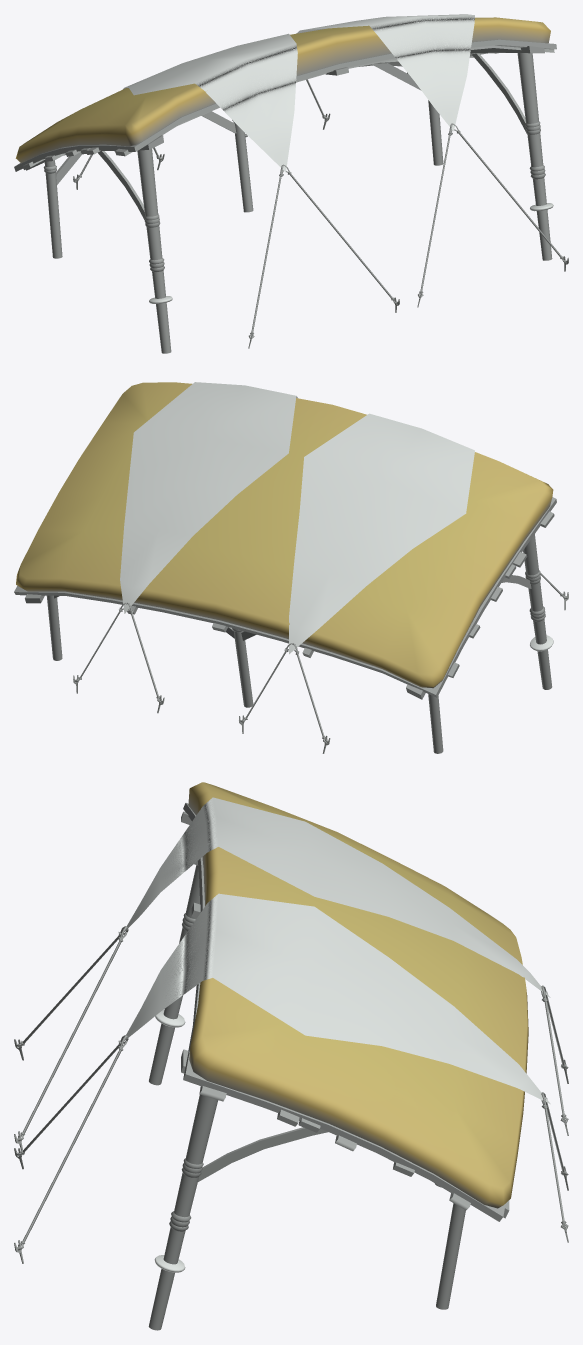
The picture shows the model from 3 angles, top to bottom: view 1: azimuth 30°, elevation 25°; view 2: azimuth 150°, elevation 25°; view 3: azimuth 270°, elevation 25°; orthographic projection. The views are drawn at different scales.
Parts seen in each view (by area): view 1: G:\FFXIV-MapTools\exports\y6f2\bg\ex5\02_ykt_y6\fld\y6f2\bgp (×7); view 2: G:\FFXIV-MapTools\exports\y6f2\bg\ex5\02_ykt_y6\fld\y6f2\bgp (×7); view 3: G:\FFXIV-MapTools\exports\y6f2\bg\ex5\02_ykt_y6\fld\y6f2\bgp (×7).
Part boxes in pixels (<box>): G:\FFXIV-MapTools\exports\y6f2\bg\ex5\02_ykt_y6\fld\y6f2\bgp (×7): <box>14,14,566,353</box>; G:\FFXIV-MapTools\exports\y6f2\bg\ex5\02_ykt_y6\fld\y6f2\bgp (×7): <box>14,382,567,753</box>; G:\FFXIV-MapTools\exports\y6f2\bg\ex5\02_ykt_y6\fld\y6f2\bgp (×7): <box>18,782,568,1330</box>.
Bounding box in the file's own units: 23.47 × 13.15 × 19.7.
